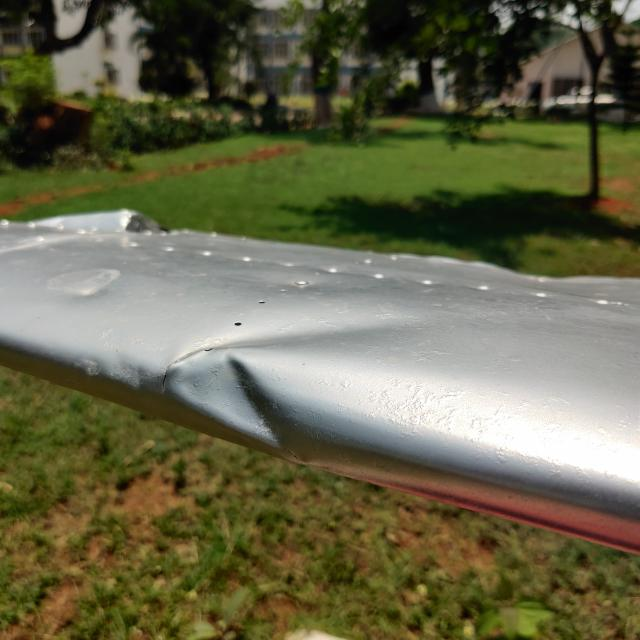crack: (150, 347, 198, 400)
dent: (162, 325, 318, 474)
